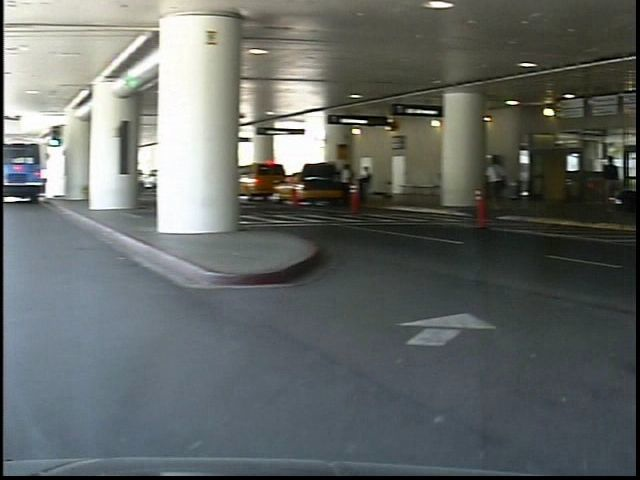person: (490, 152, 517, 213), (603, 152, 627, 216)
